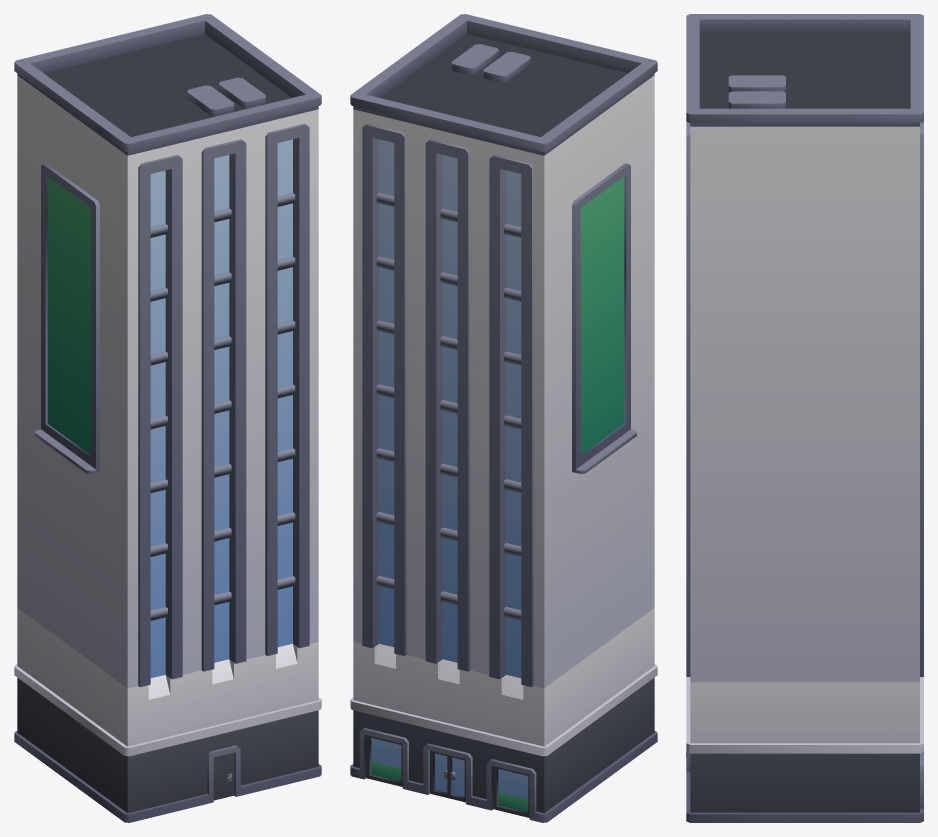
The model's file is commercial-building-skyscraper-e.glb.
The picture shows the model from 3 angles, left to right: view 1: azimuth 30°, elevation 25°; view 2: azimuth 150°, elevation 25°; view 3: azimuth 270°, elevation 25°; orthographic projection. The views are drawn at different scales.
Parts seen in each view (by area): view 1: building-skyscraper-e; view 2: building-skyscraper-e; view 3: building-skyscraper-e.
Boxes of the visible parts, x1=… form: building-skyscraper-e: x1=14, y1=14, x2=321, y2=822; building-skyscraper-e: x1=350, y1=14, x2=657, y2=822; building-skyscraper-e: x1=686, y1=14, x2=923, y2=822.
Bounding box in the file's own units: 1.3 × 4.08 × 1.24.
Materials: 1 (1 with a texture image).
